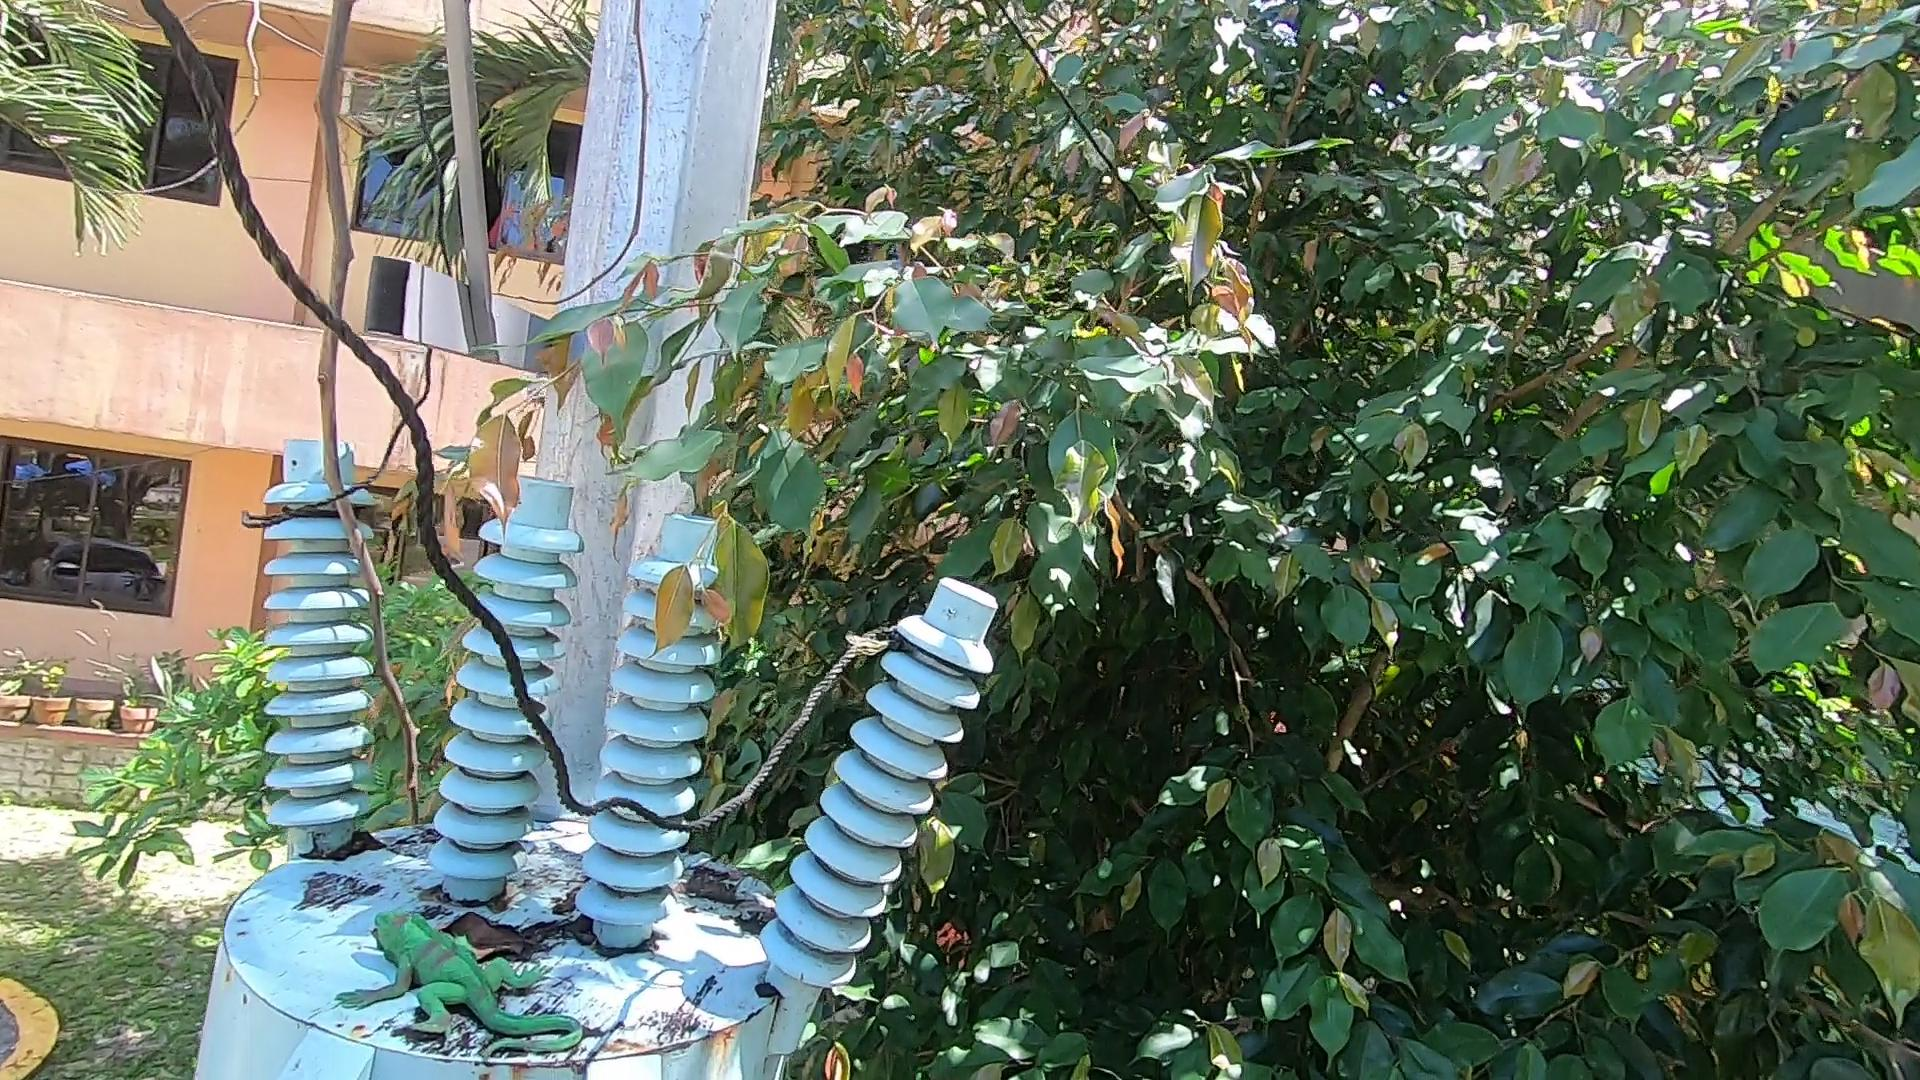branch with leaves: (448, 327, 794, 662)
leaf: (688, 860, 769, 942), (440, 910, 589, 949), (322, 818, 381, 873)
tree branch: (258, 5, 465, 829)
